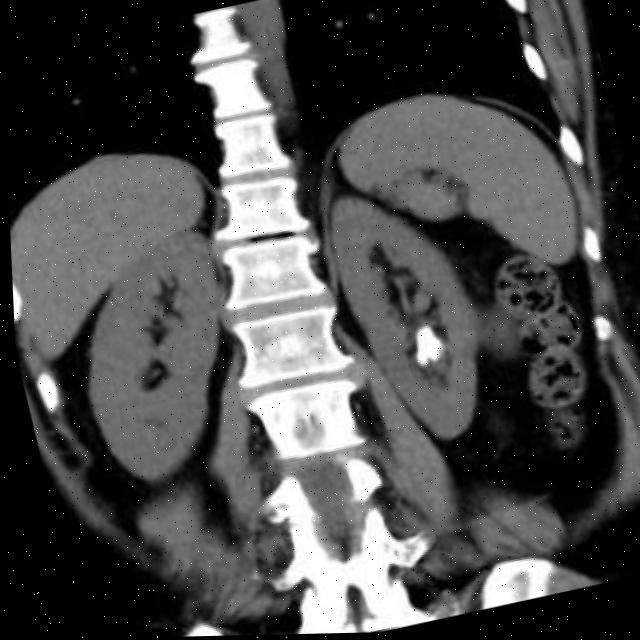Tas_Var: (404, 317, 446, 373)
